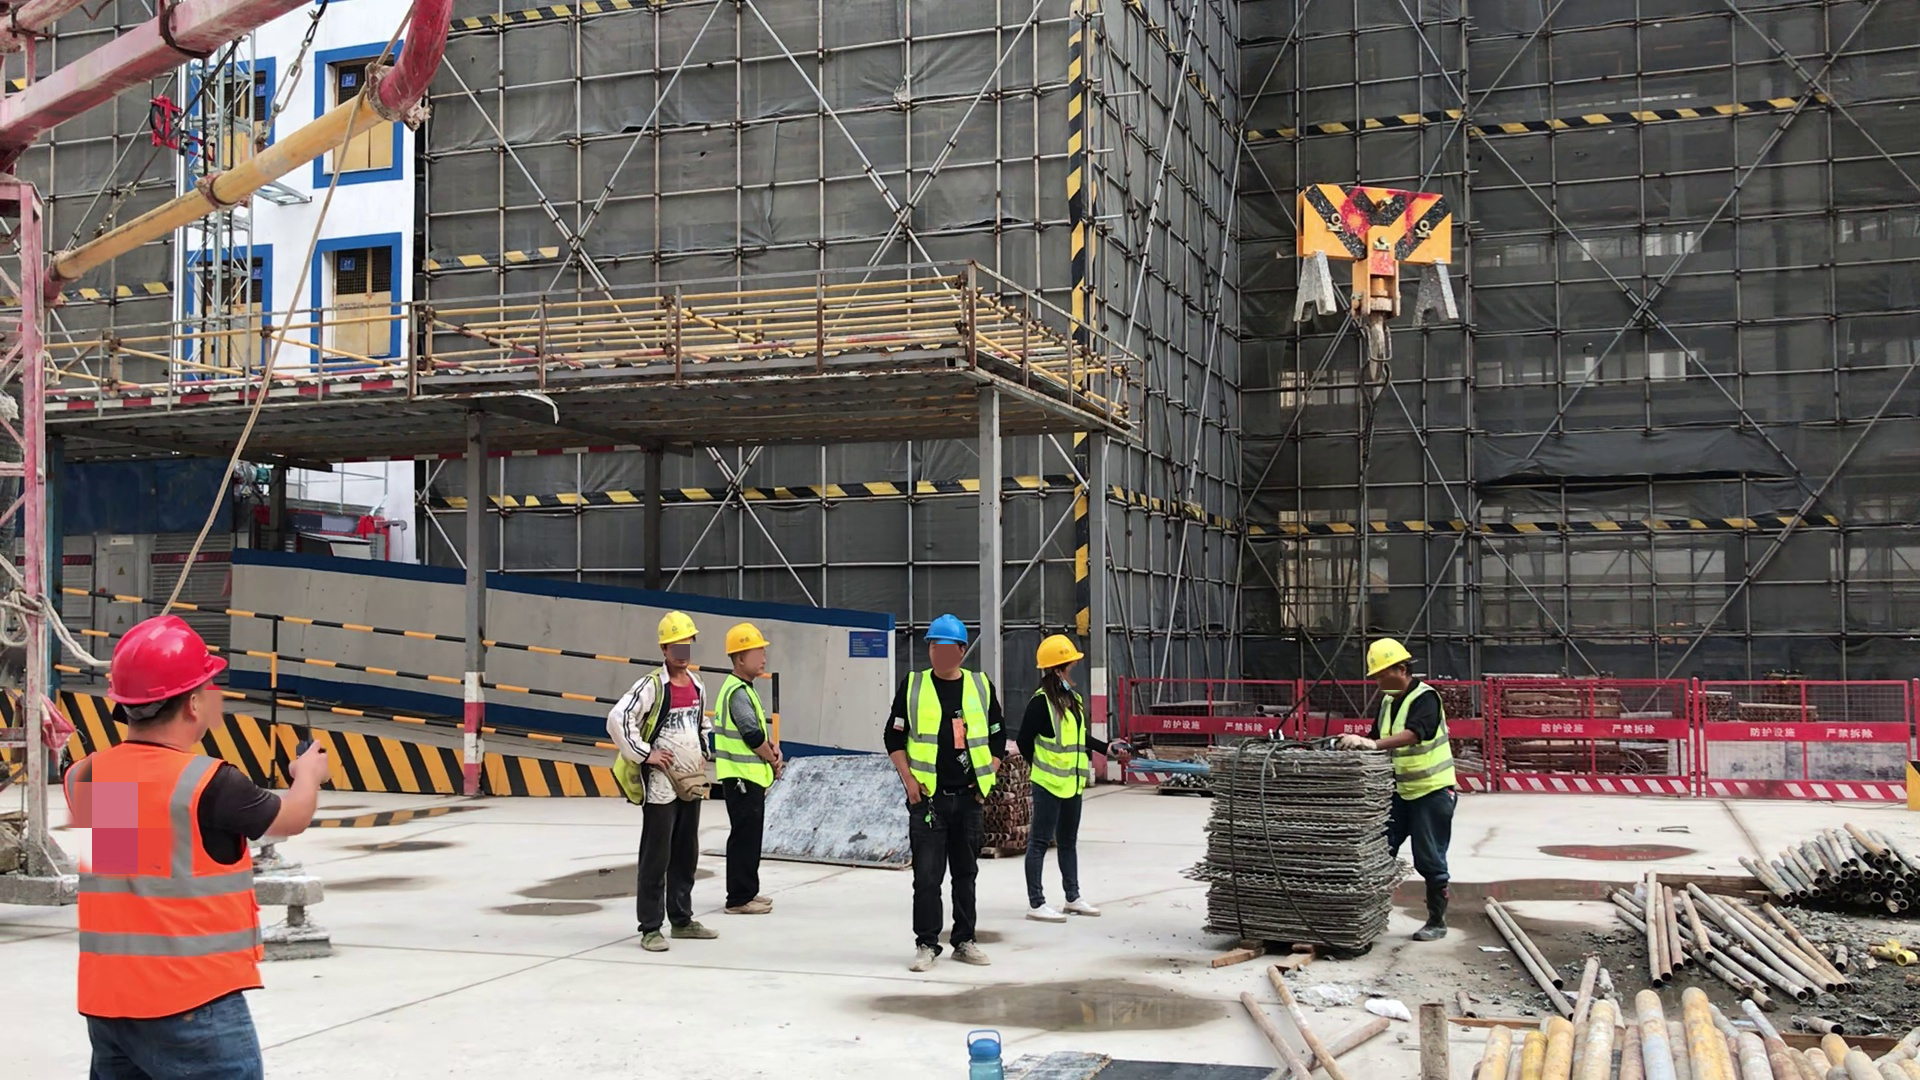fence: (1120, 679, 1920, 803)
helmet: (108, 618, 231, 707), (1038, 633, 1085, 674), (654, 608, 700, 646), (1369, 631, 1408, 674), (720, 620, 770, 653), (924, 612, 967, 646)
hook: (1292, 173, 1461, 373)
person: (65, 616, 331, 1079), (881, 612, 1005, 972), (605, 611, 717, 953), (1365, 627, 1463, 939), (1021, 637, 1101, 926), (717, 608, 781, 922)
scaffold: (1205, 741, 1396, 953)
vest: (77, 741, 261, 1019), (904, 672, 998, 796), (1375, 681, 1456, 797), (1029, 681, 1086, 799), (712, 674, 767, 784)
